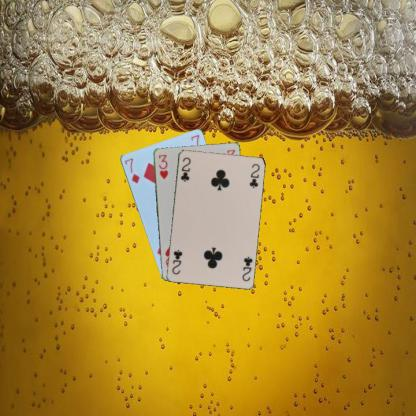2c: (239, 254, 254, 282), (178, 154, 192, 183)
3h: (156, 152, 169, 180)
7d: (122, 156, 140, 184)
